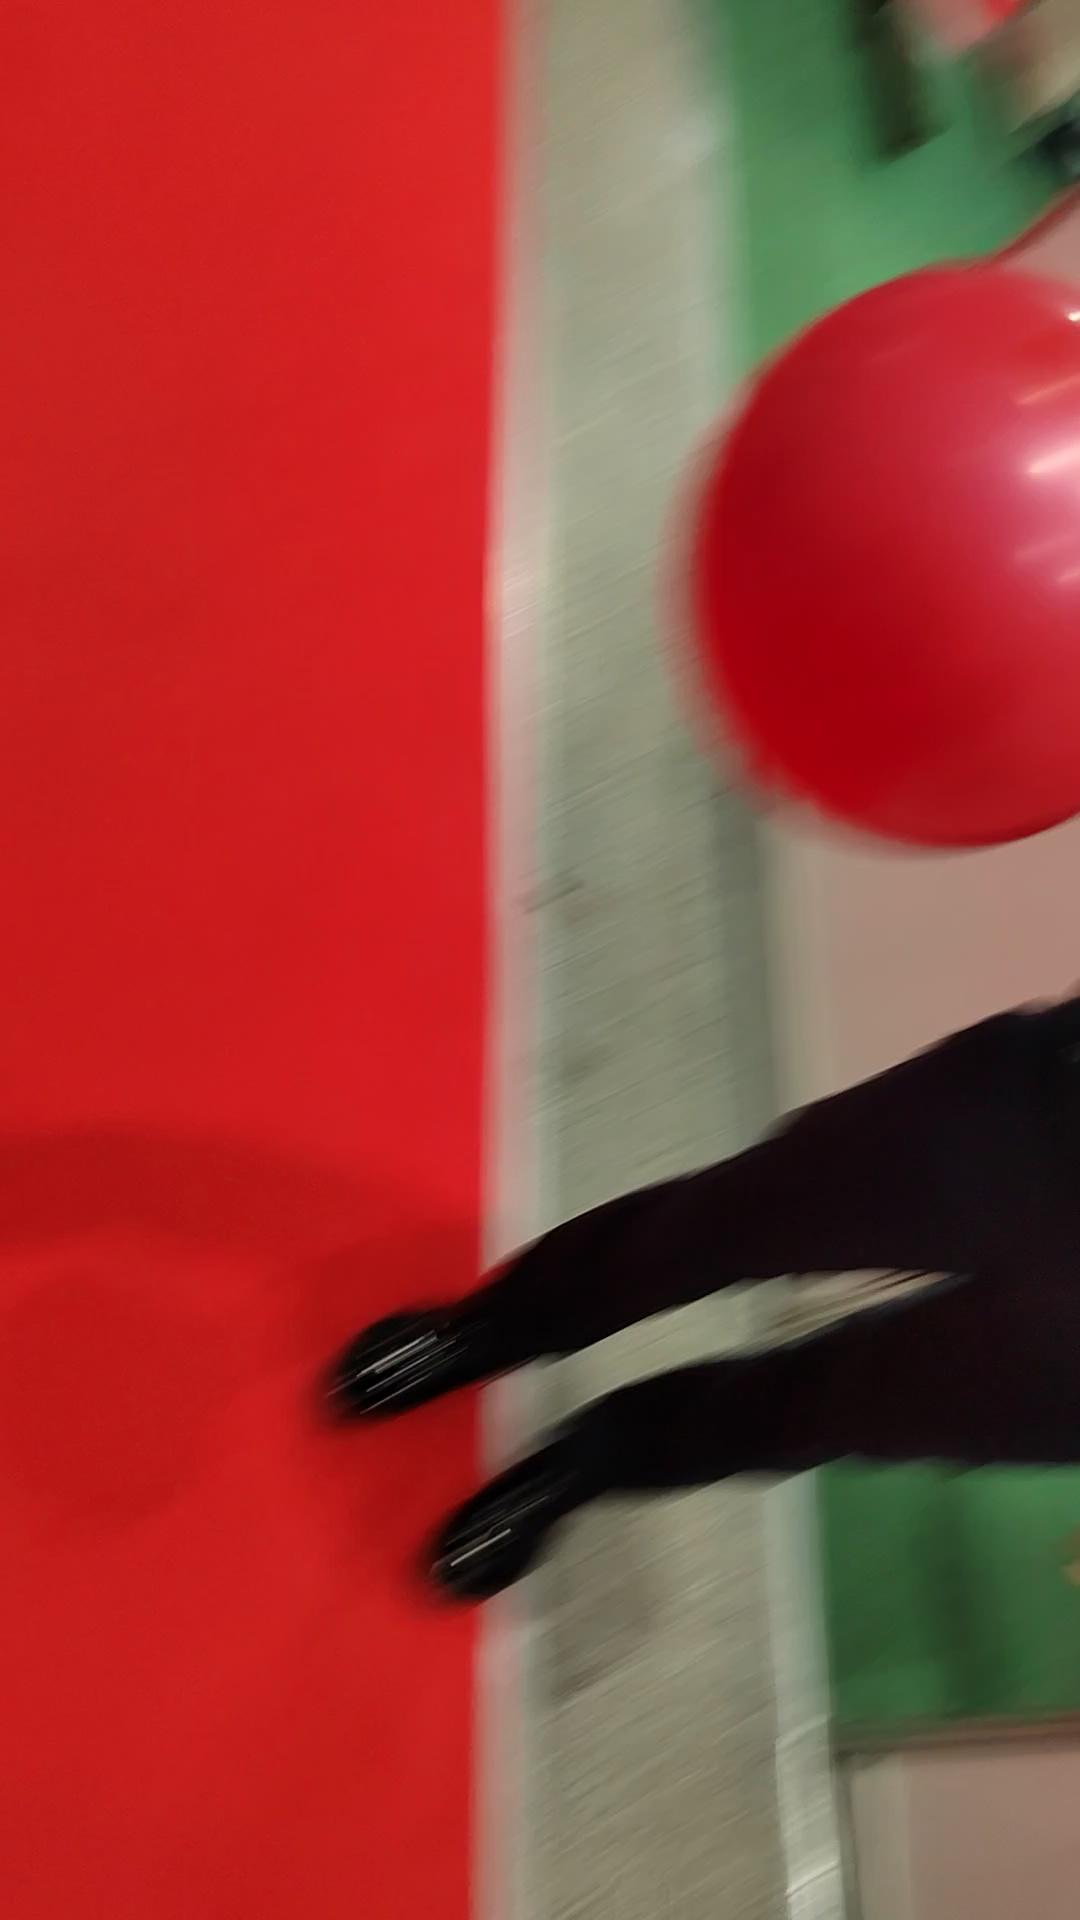red: (670, 249, 1080, 870)
